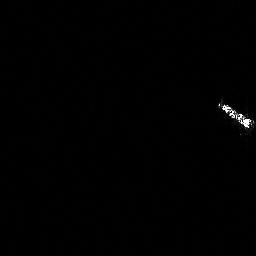ship: (214, 97, 256, 134)
